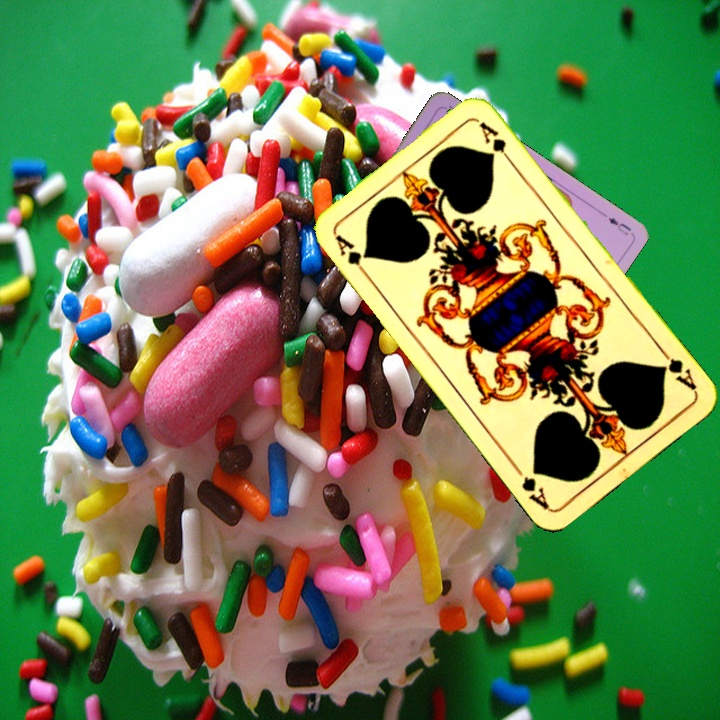EU: (604, 213, 633, 238)
GA: (655, 344, 700, 393), (331, 230, 372, 281)
